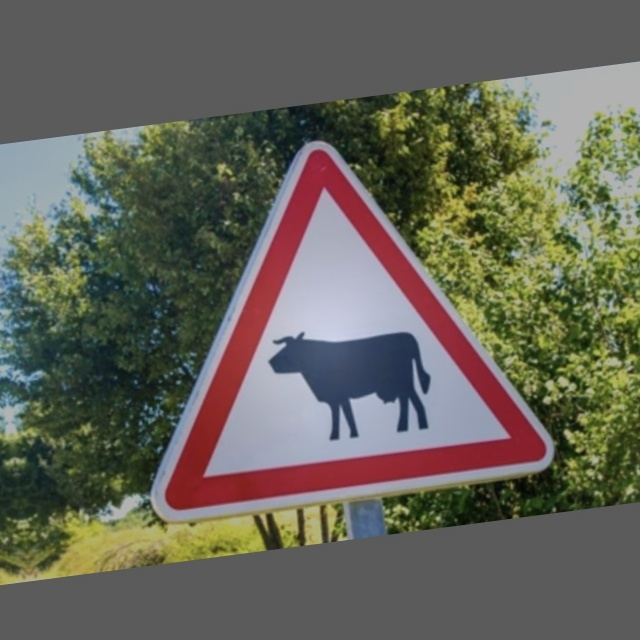Cattle: (129, 124, 568, 522)
